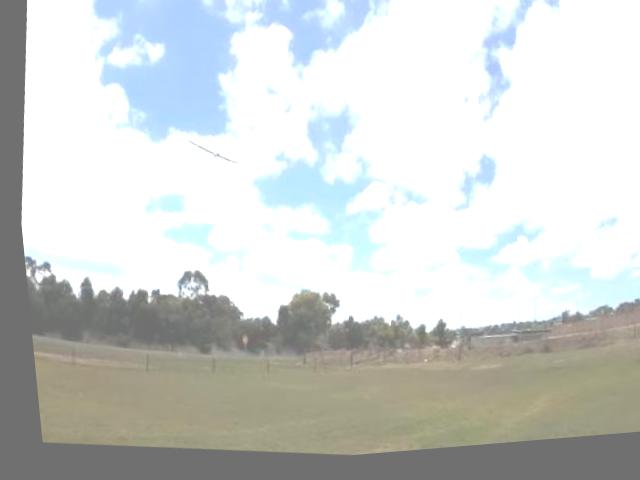uav: (170, 129, 246, 188)
